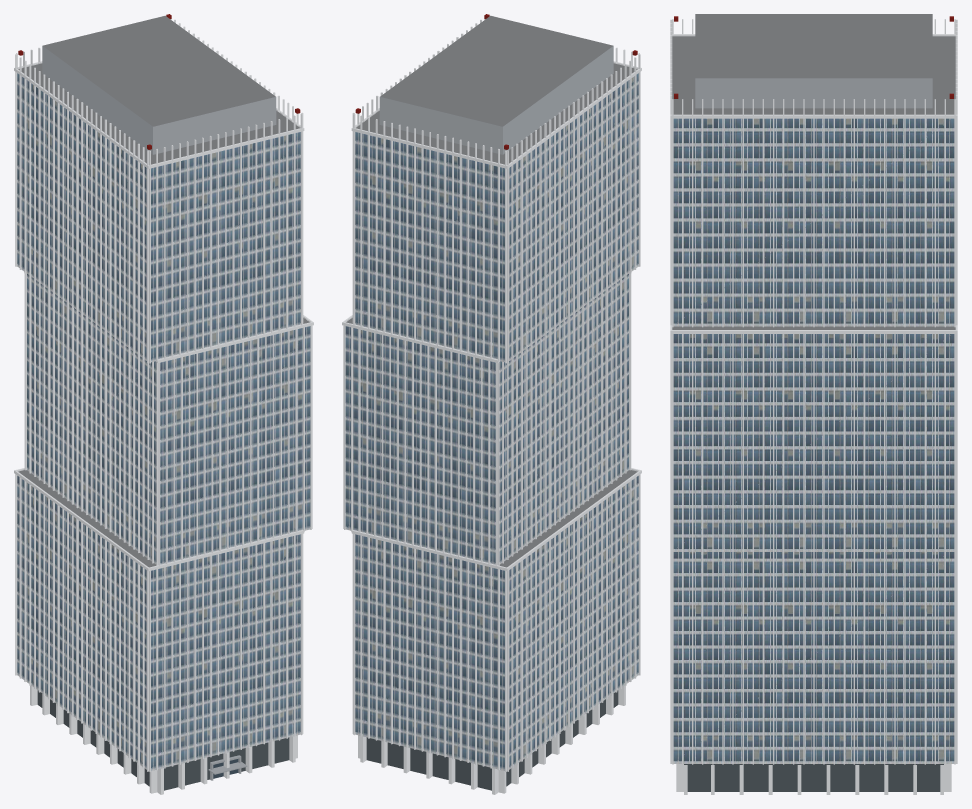
The model's file is tokiwabashi_tower.glb.
3 views of the same model, side by side, from view 1: azimuth 30°, elevation 25°; view 2: azimuth 150°, elevation 25°; view 3: azimuth 270°, elevation 25° (orthographic). The views are drawn at different scales.
Parts seen in each view (by area): view 1: tokiwabashi_tower; view 2: tokiwabashi_tower; view 3: tokiwabashi_tower.
Boxes of the visible parts, <box> form: tokiwabashi_tower: <box>14,14,313,794</box>; tokiwabashi_tower: <box>342,14,641,794</box>; tokiwabashi_tower: <box>670,14,957,794</box>.
Size of the model in its own units: 55.49 by 212 by 78.01.
2 materials, 2 textured.
